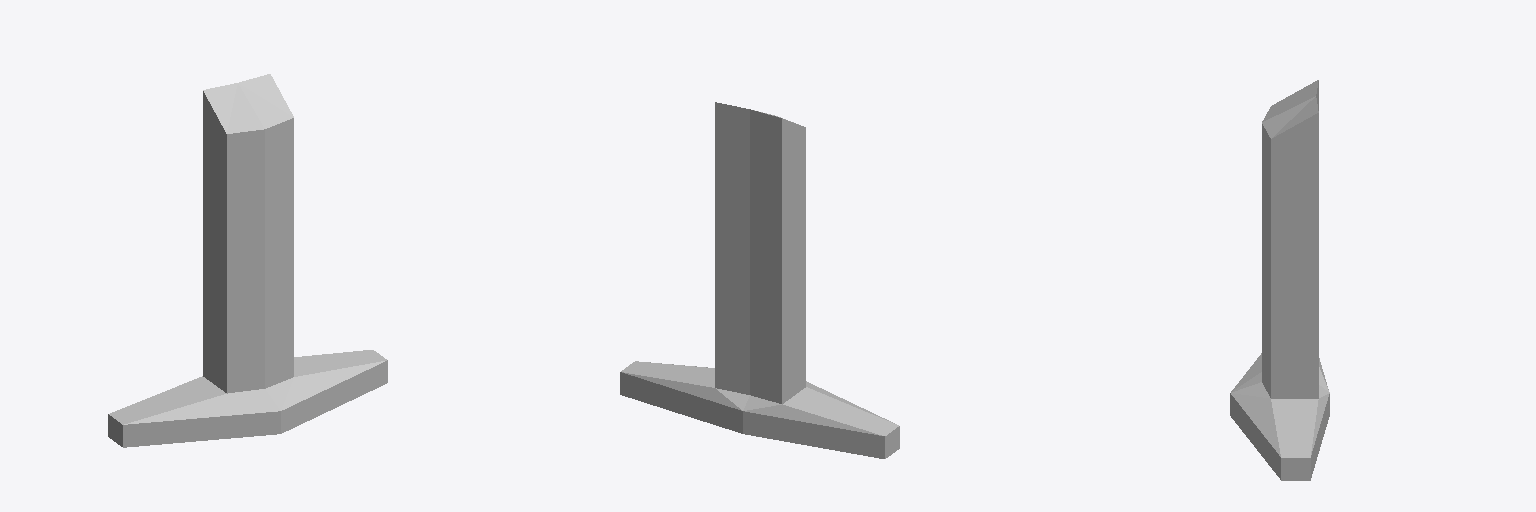
Rendered from monitorStand.obj.
The picture shows the model from 3 angles: view 1: azimuth 30°, elevation 25°; view 2: azimuth 150°, elevation 25°; view 3: azimuth 270°, elevation 25°; orthographic projection.
Visible parts, largest first — view 1: Cube.002; view 2: Cube.002; view 3: Cube.002.
Part boxes in pixels (x1,y1,x2,y2): Cube.002: (108,74,387,447); Cube.002: (620,102,899,458); Cube.002: (1230,80,1329,480).
Bounding box in the file's own units: 0.6112 × 0.7057 × 0.1988.